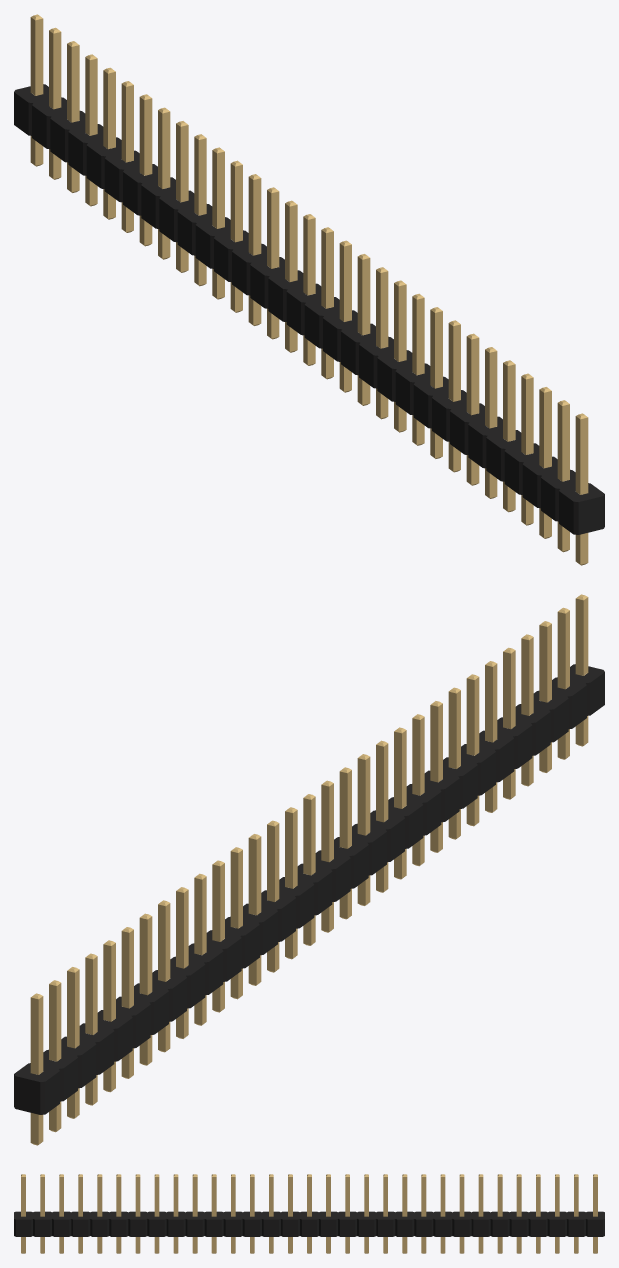
Rendered from kc-pinheader_1x31_p2.54mm_vertical.glb.
The picture shows the model from 3 angles, top to bottom: view 1: azimuth 30°, elevation 25°; view 2: azimuth 150°, elevation 25°; view 3: azimuth 270°, elevation 25°; orthographic projection. The views are drawn at different scales.
Parts seen in each view (by area): view 1: 0.75_0.5_0.25_0.9, 0_0_0_0; view 2: 0.75_0.5_0.25_0.9, 0_0_0_0; view 3: 0_0_0_0, 0.75_0.5_0.25_0.9.
Part boxes in pixels (bbox=[...]): 0.75_0.5_0.25_0.9: bbox=[30, 14, 588, 565]; 0_0_0_0: bbox=[14, 84, 604, 534]; 0.75_0.5_0.25_0.9: bbox=[30, 594, 588, 1145]; 0_0_0_0: bbox=[14, 664, 604, 1114]; 0_0_0_0: bbox=[14, 1211, 604, 1236]; 0.75_0.5_0.25_0.9: bbox=[21, 1174, 597, 1253].
Bounding box in the file's own units: 0.2538 × 1.15 × 7.87.
